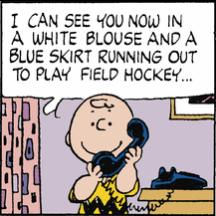charlie: (64, 92, 144, 214)
